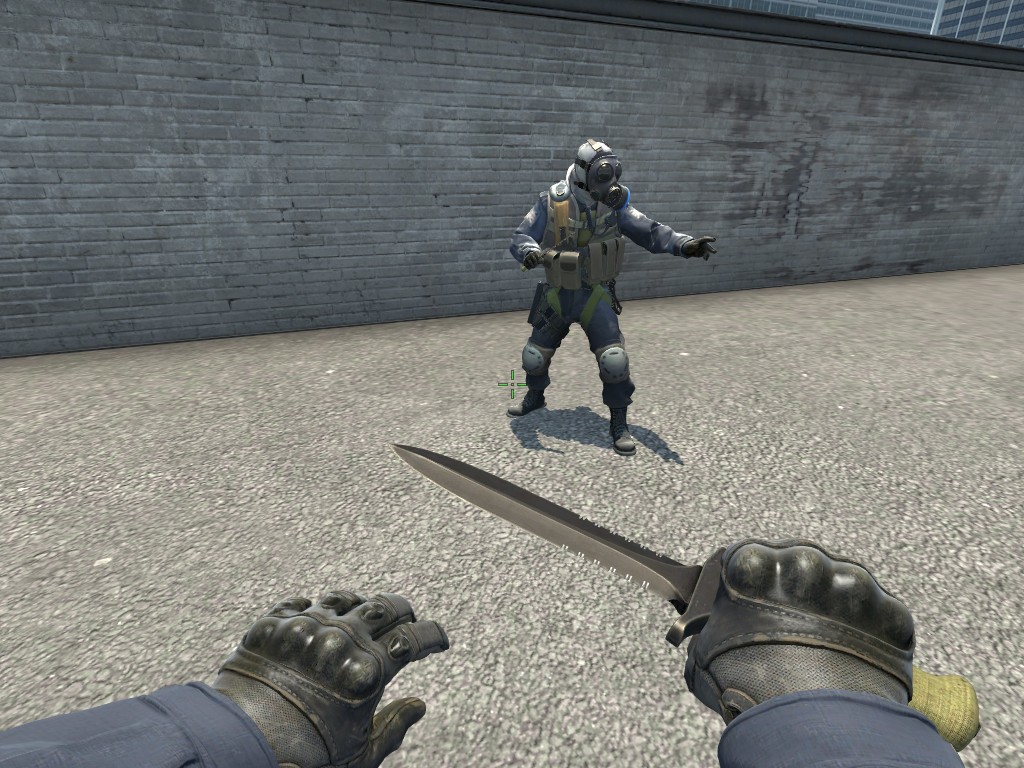ct head: (572, 137, 623, 204)
